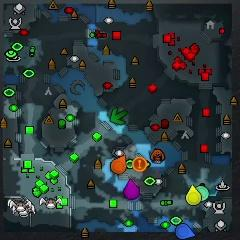Other: (132, 157, 147, 172)
p1: (175, 223, 196, 240)
p2: (195, 185, 209, 201)
p3: (124, 179, 141, 200)
p4: (187, 185, 201, 205)
p5: (111, 154, 127, 175)
x4: (111, 107, 127, 125)
